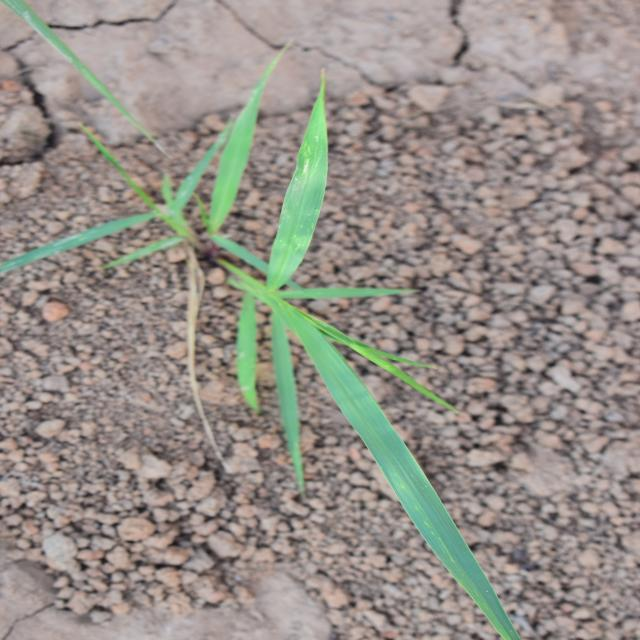green_foxtail: (13, 140, 540, 472)
